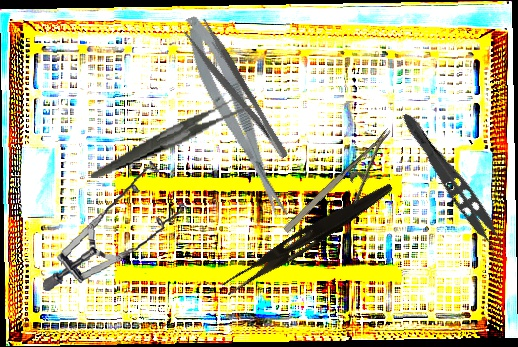Dressing Forceps: (220, 174, 396, 302), (182, 16, 292, 169), (82, 92, 259, 179)
Micro Scissor: (176, 9, 295, 226)
Needle Holder: (279, 127, 412, 252)
Speculum: (31, 157, 194, 292)
Tissue Forceps: (388, 109, 516, 264)
